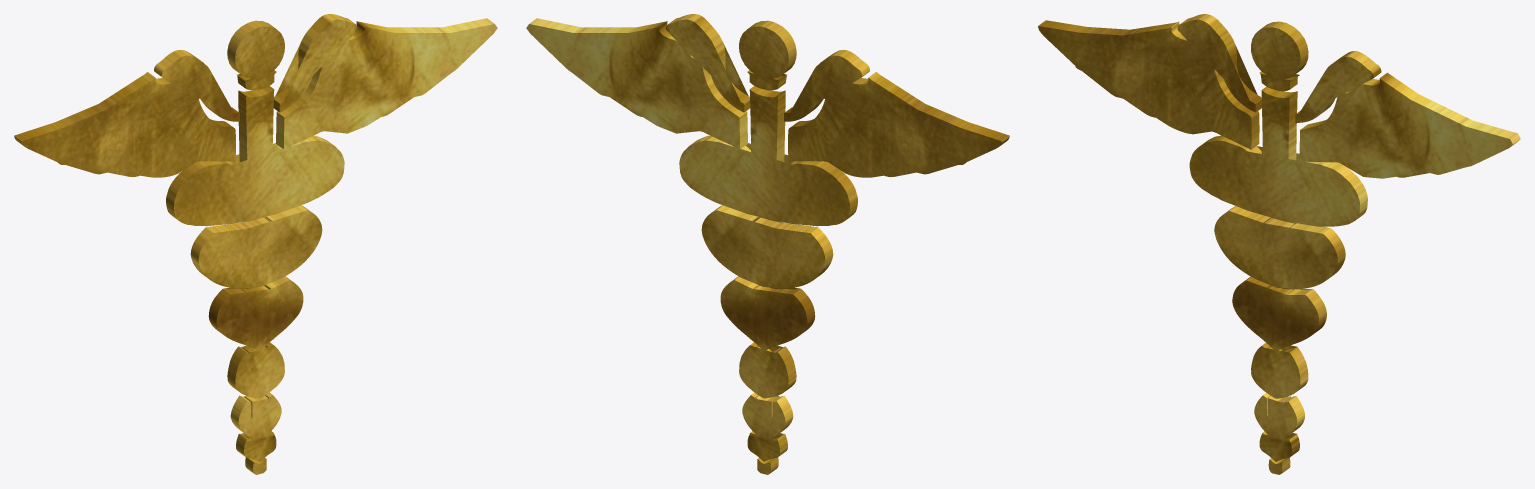
The model's file is powerup_hell_health.FBX.
The picture shows the model from 3 angles, left to right: view 1: azimuth 30°, elevation 25°; view 2: azimuth 150°, elevation 25°; view 3: azimuth 330°, elevation 25°; orthographic projection.
Parts seen in each view (by area): view 1: Shape1; view 2: Shape1; view 3: Shape1.
Part boxes in pixels (x1,y1,x2,y2): Shape1: (14, 14, 497, 474); Shape1: (526, 14, 1009, 474); Shape1: (1038, 14, 1520, 474).
Size of the model in its own units: 11.94 by 10.72 by 0.3414.
Materials: 1 (1 with a texture image).
